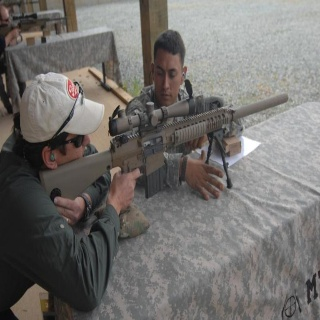rifle: (35, 79, 290, 209)
